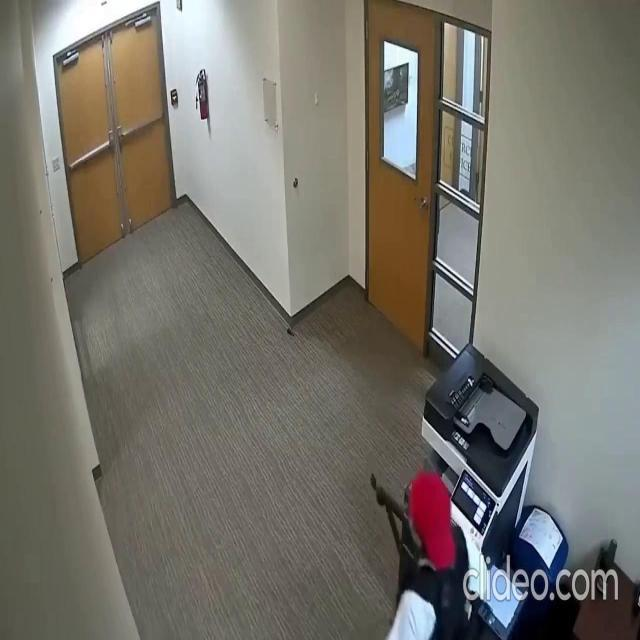pistol: (369, 467, 431, 572)
